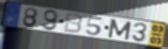3: (131, 22, 149, 43)
5: (85, 16, 105, 36)
8: (21, 7, 39, 28)
9: (42, 9, 60, 32)
B: (63, 12, 84, 35)
M: (107, 18, 134, 41)
